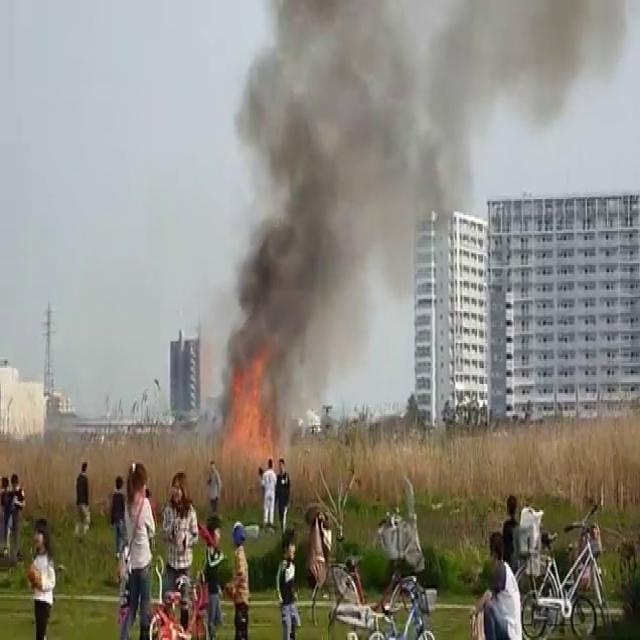Fire: (208, 359, 288, 480)
Smoke: (212, 0, 468, 411), (236, 0, 628, 186)
